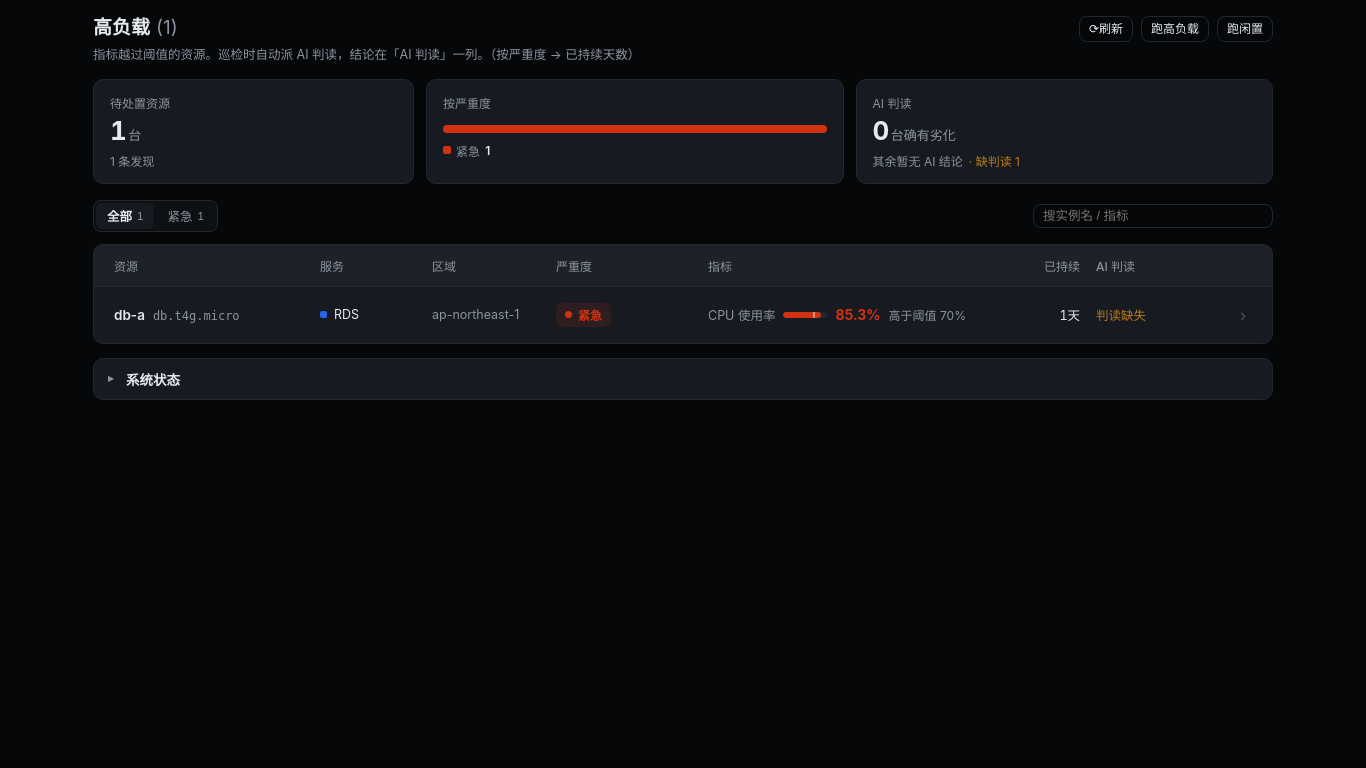
Scenario: 页面：kill switch / 已不存在 / 5xx / 英文 › ★★★ 派发返回 5xx → 琥珀「结果未知」并刷新，不说失败（B15）
Expected: the text "db-a" is shown, [114,307,145,323]
Click the button with aria-label "db-a 的巡检详情": click(129, 315) [114,303,1246,327]
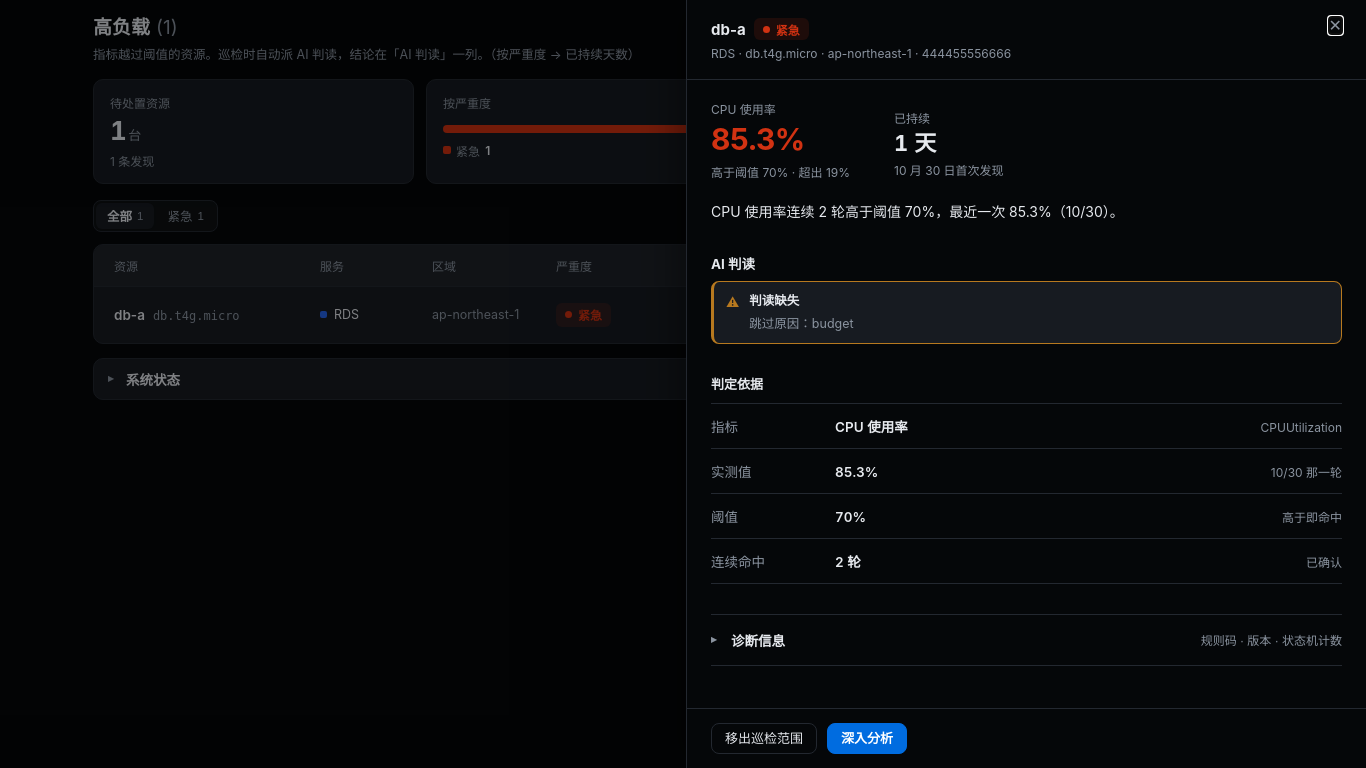
Now the button "深入分析" is shown
Click the button "深入分析": click(867, 738) [827,722,907,754]
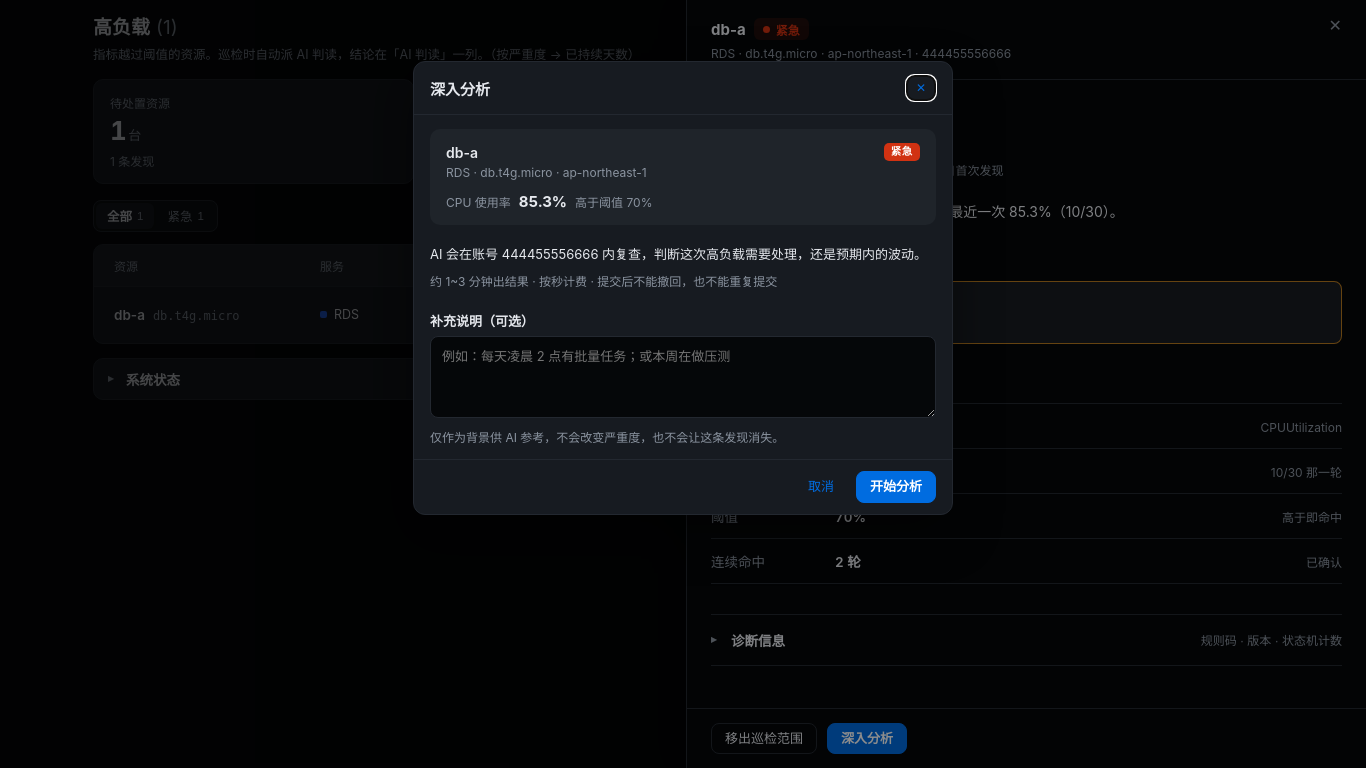
Now the button "开始分析" is shown
Click the button "开始分析": click(896, 487) [856,471,936,503]
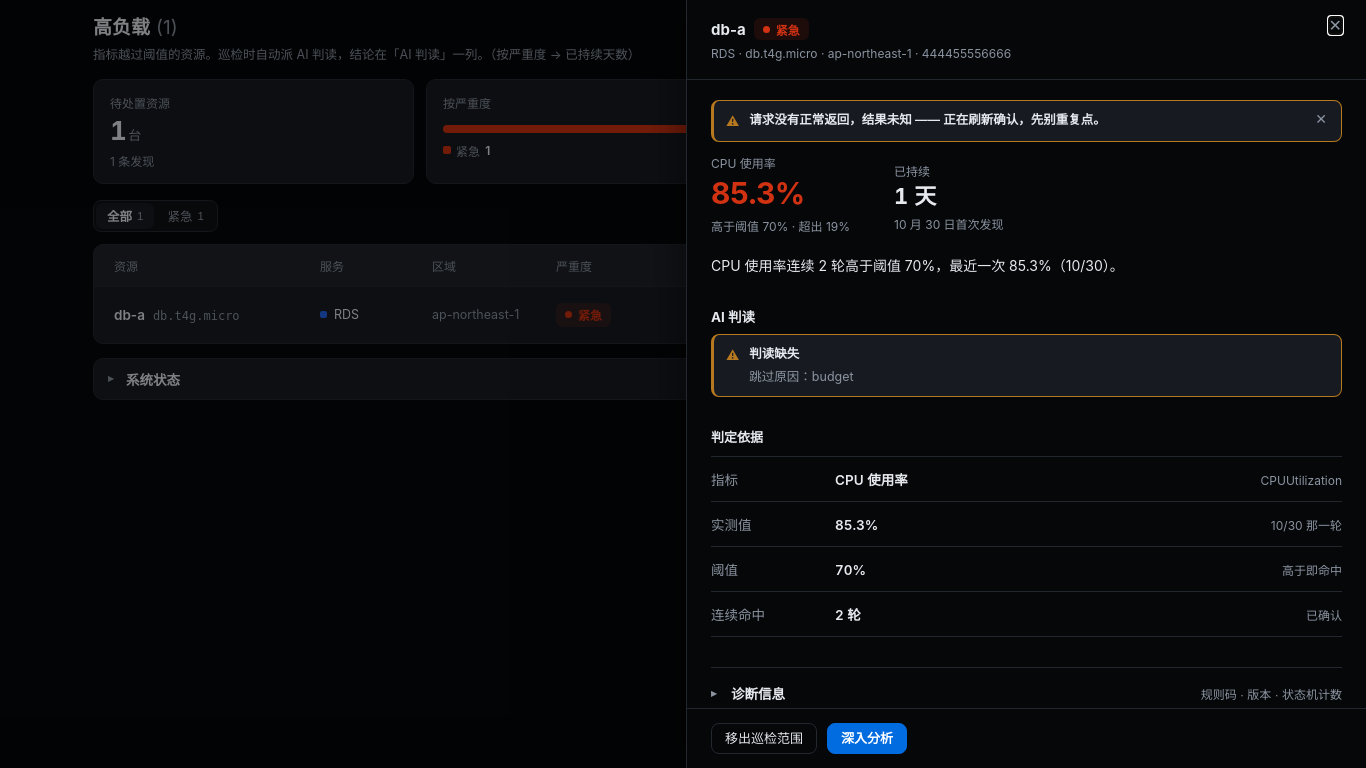
Now the text "请求没有正常返回，结果未知 —— 正在刷新确认，先别重复点。" is shown, box [749,112,1106,127]
